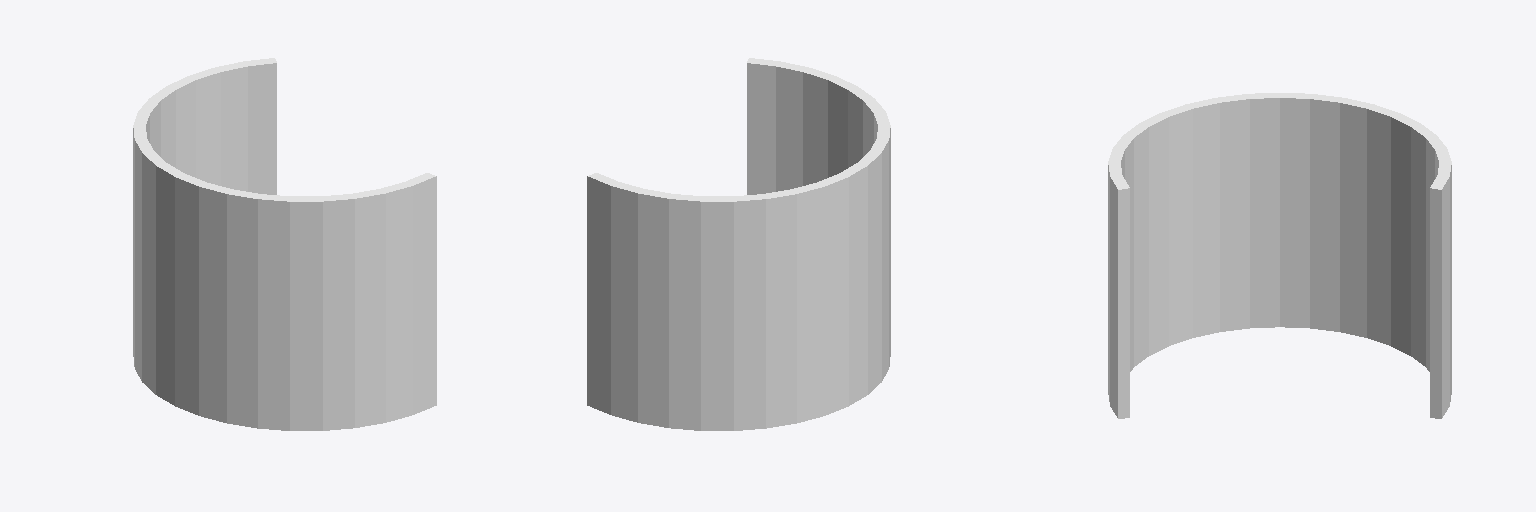
The picture shows the model from 3 angles: view 1: azimuth 30°, elevation 25°; view 2: azimuth 150°, elevation 25°; view 3: azimuth 270°, elevation 25°; orthographic projection.
Parts seen in each view (by area): view 1: wall_1_4, wall_1_3, wall_1_6, wall_1_5; view 2: wall_1_4, wall_1_3, wall_1_6, wall_1_5; view 3: wall_1_3, wall_1_4, wall_1_6, wall_1_5.
Boxes of the visible parts, x1=… form: wall_1_4: x1=133, y1=128, x2=436, y2=430; wall_1_3: x1=146, y1=63, x2=276, y2=194; wall_1_6: x1=133, y1=58, x2=435, y2=201; wall_1_5: x1=140, y1=60, x2=430, y2=198; wall_1_4: x1=587, y1=128, x2=890, y2=430; wall_1_3: x1=747, y1=63, x2=877, y2=194; wall_1_6: x1=588, y1=58, x2=890, y2=201; wall_1_5: x1=593, y1=60, x2=883, y2=198; wall_1_3: x1=1121, y1=98, x2=1438, y2=418; wall_1_4: x1=1108, y1=165, x2=1451, y2=418; wall_1_6: x1=1108, y1=93, x2=1451, y2=189; wall_1_5: x1=1114, y1=95, x2=1445, y2=188.
Bounding box in the file's own units: 139 × 152 × 207.